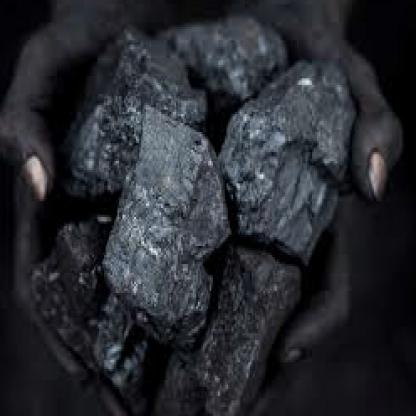Sedimentary_coal: (112, 98, 230, 342), (221, 65, 354, 255), (205, 242, 280, 414), (169, 9, 287, 110), (104, 27, 203, 121), (68, 107, 142, 208)
